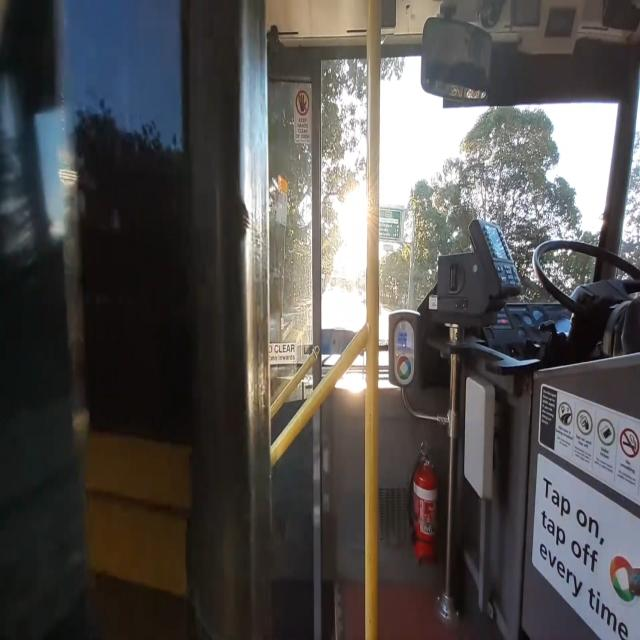bus-door: (64, 10, 326, 640)
